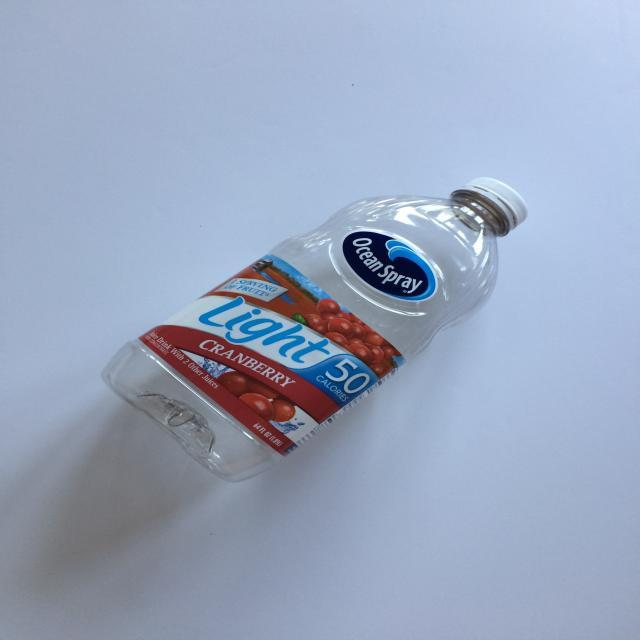plastic: (80, 143, 574, 500)
